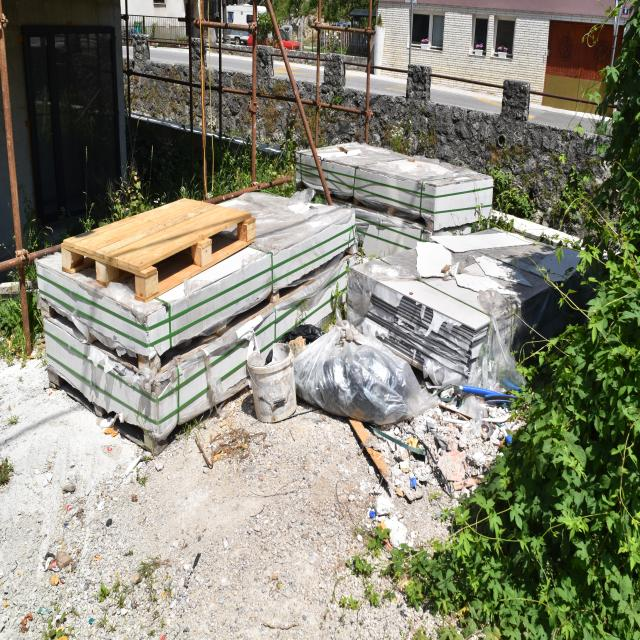entulho: (31, 226, 273, 358), (341, 238, 527, 400), (60, 200, 263, 338), (38, 312, 226, 443), (288, 121, 497, 228), (289, 323, 454, 434), (424, 229, 568, 307), (221, 190, 351, 260), (243, 341, 301, 428), (480, 210, 590, 250), (431, 320, 475, 354)
